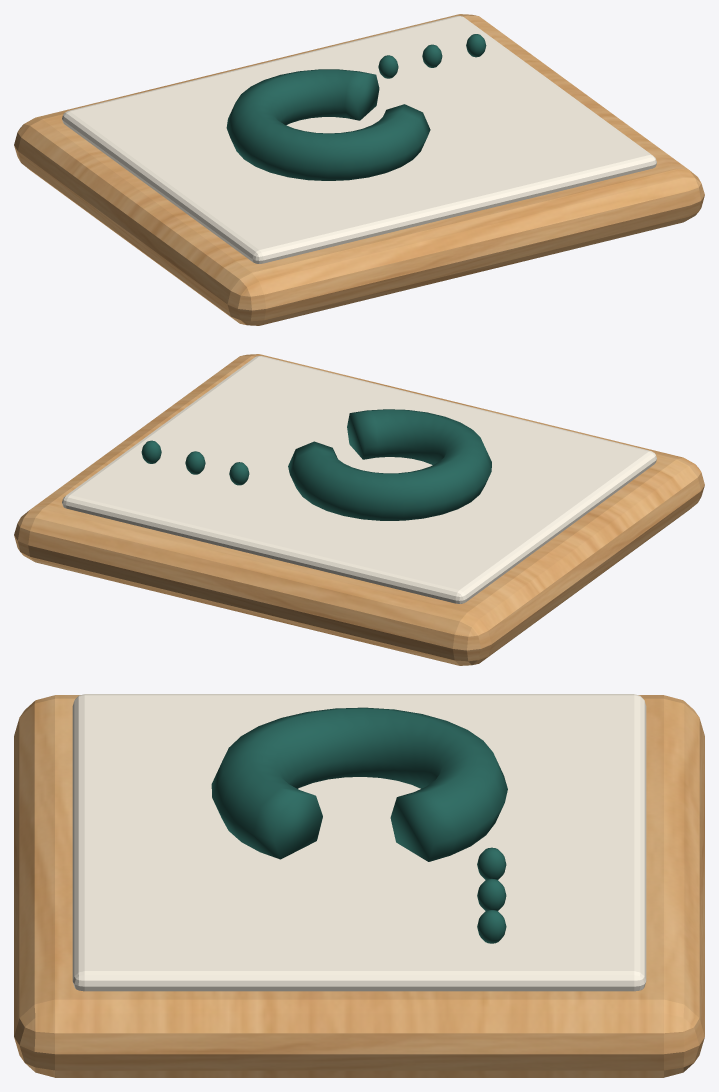
File: quiet_clue.glb
3 views of the same model, one above another, from view 1: azimuth 30°, elevation 25°; view 2: azimuth 150°, elevation 25°; view 3: azimuth 270°, elevation 25° (orthographic). The views are drawn at different scales.
Parts seen in each view (by area): view 1: quiet_clue; view 2: quiet_clue; view 3: quiet_clue.
Part boxes in pixels (box(x1,y1,x2,y2)): quiet_clue: box(14, 14, 704, 325); quiet_clue: box(14, 354, 704, 665); quiet_clue: box(14, 694, 704, 1077).
Size of the model in its own units: 0.54 by 0.11 by 0.47.
3 materials, 1 textured.
